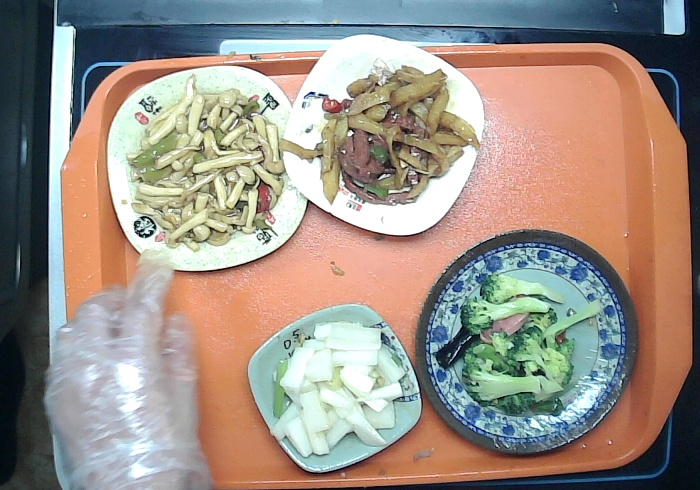NLDX-Bai_Se_Xiao_Fang_Die: (282, 32, 486, 238)
NLDX-Fu_Zi_Fang_Die: (103, 63, 308, 272)
NLDX-Qing_Hua_Xiao_Fang_Die: (246, 300, 424, 473)
NLDX-Qing_Hua_Yuan_Die: (413, 225, 639, 458)
